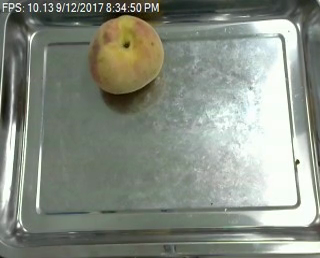Peach: (88, 15, 164, 94)
